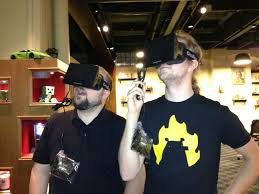oculus: (140, 33, 190, 70), (61, 58, 109, 92)
